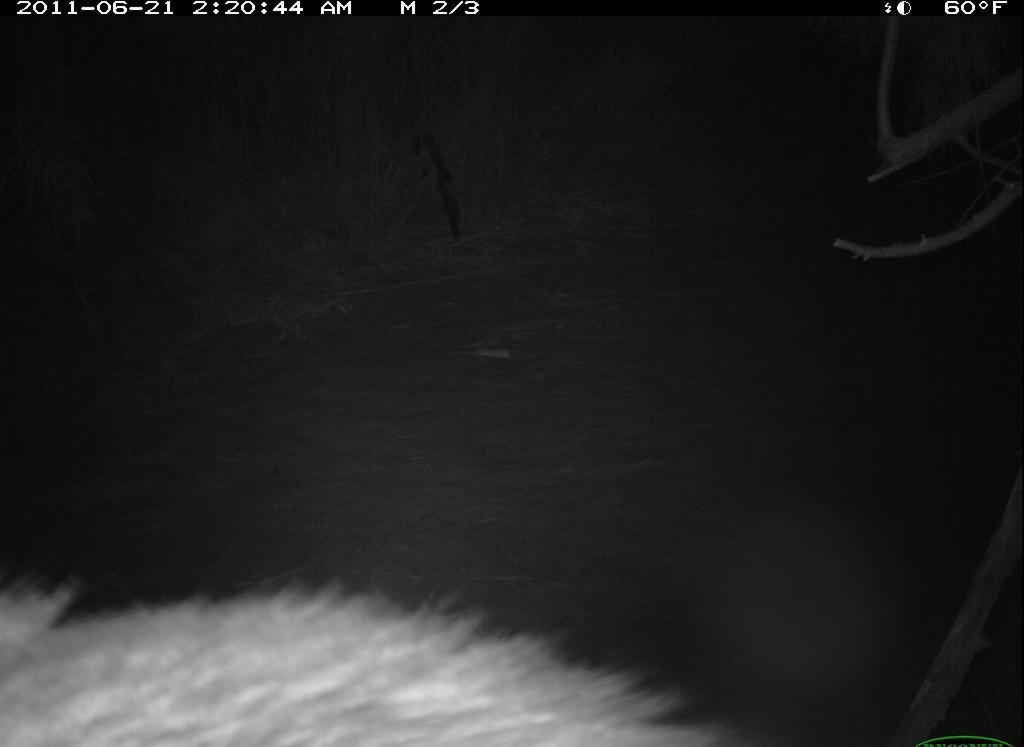raccoon: (3, 575, 749, 747)
